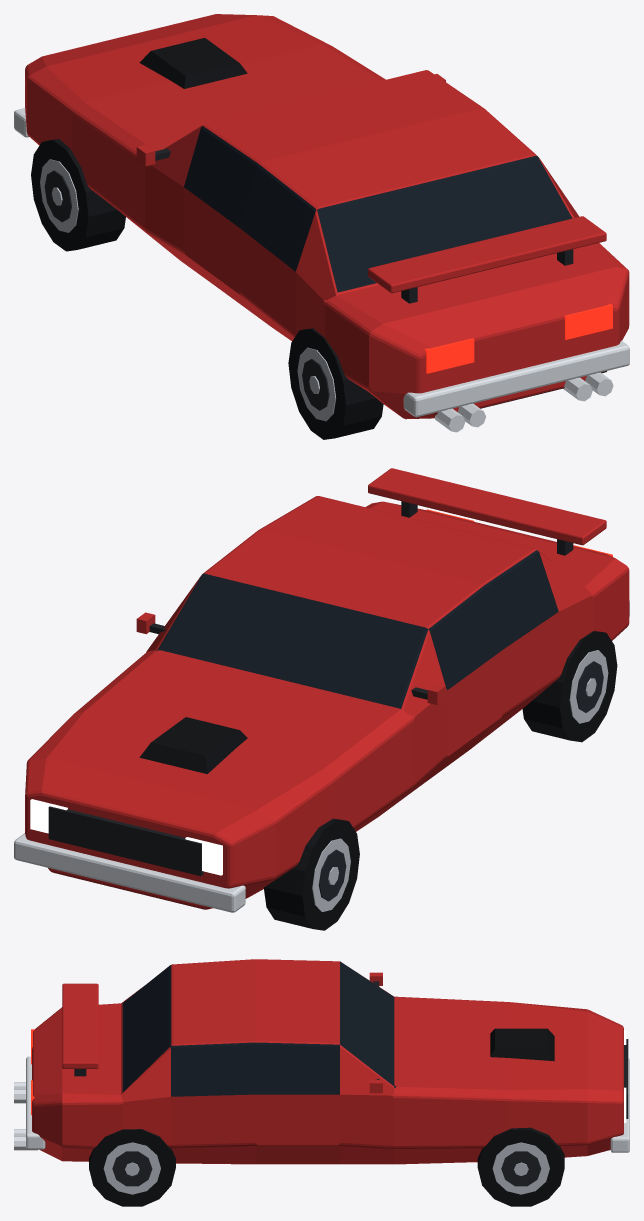
Rendered from car_muscle.glb.
3 renders of one model, top to bottom at view 1: azimuth 30°, elevation 25°; view 2: azimuth 150°, elevation 25°; view 3: azimuth 270°, elevation 25°, orthographic. The views are drawn at different scales.
Visible parts, largest first — view 1: Body, Wheel_FL, Wheel_RL; view 2: Body, Wheel_FL, Wheel_RL; view 3: Body, Wheel_FR, Wheel_RR.
Boxes of the visible parts, x1,y1,x2,y2 form: Body: (14,14,629,432); Wheel_FL: (31,139,125,251); Wheel_RL: (288,328,383,439); Body: (14,468,629,912); Wheel_FL: (264,818,359,930); Wheel_RL: (522,631,617,742); Body: (14,959,629,1164); Wheel_FR: (477,1127,564,1206); Wheel_RR: (89,1129,175,1206).
Bounding box in the file's own units: 2.17 × 1.43 × 5.1.
